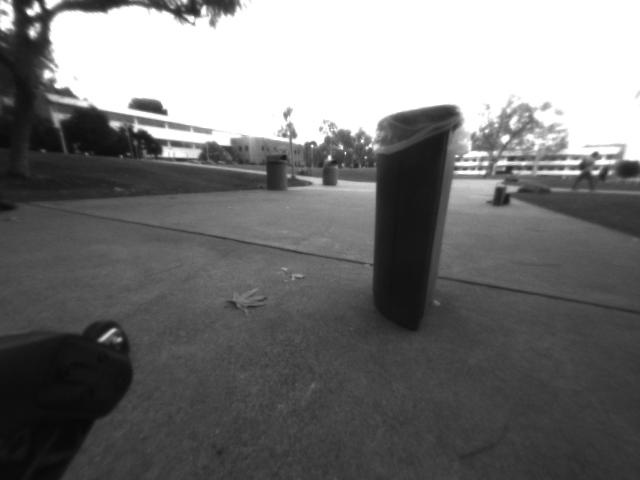trashcan: (364, 98, 461, 339)
